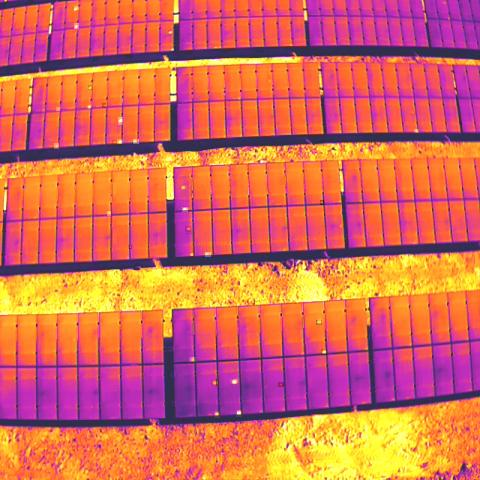fault: (188, 250, 194, 258), (236, 410, 242, 417), (214, 411, 220, 418), (212, 379, 218, 386), (230, 379, 238, 384), (118, 117, 123, 125), (321, 349, 327, 355), (185, 226, 191, 232), (189, 357, 196, 362), (316, 320, 322, 325), (206, 252, 212, 257), (182, 207, 188, 212), (182, 185, 188, 190), (117, 139, 123, 144), (86, 104, 92, 109), (54, 143, 59, 149), (74, 23, 79, 29), (278, 382, 284, 387), (134, 139, 139, 144), (102, 103, 107, 108), (168, 30, 172, 36), (112, 140, 117, 144), (88, 85, 92, 90), (74, 6, 79, 10), (414, 129, 419, 133), (320, 200, 324, 205), (107, 211, 111, 216), (170, 47, 174, 51), (128, 245, 132, 249), (56, 107, 60, 111), (340, 223, 342, 228), (42, 108, 44, 112)
